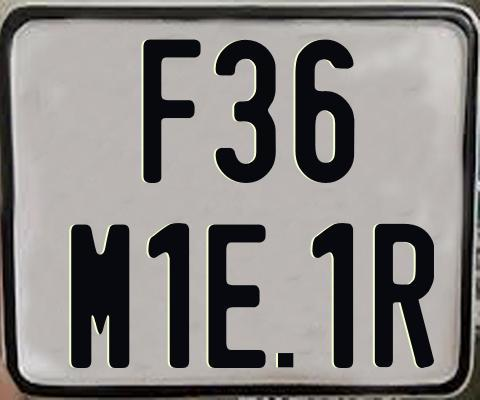1: (146, 223, 191, 370), (312, 222, 357, 369)
3: (215, 37, 281, 185)
6: (295, 37, 356, 186)
E: (206, 223, 266, 367)
F: (141, 38, 204, 184)
M: (68, 223, 127, 373)
R: (372, 222, 434, 372)
